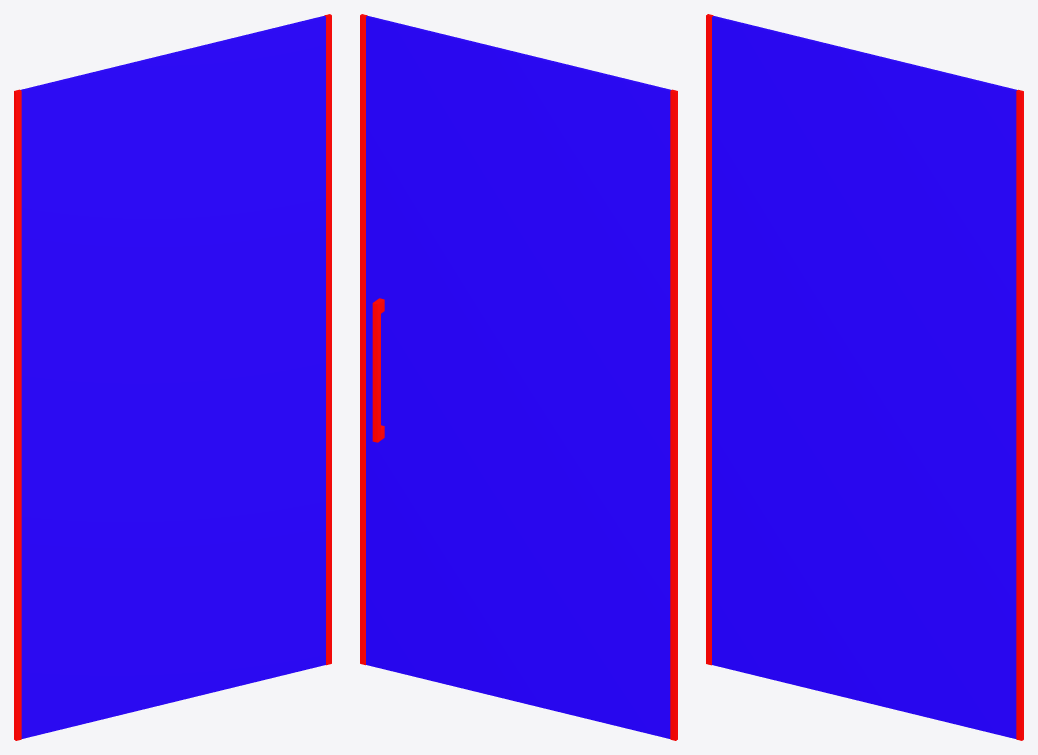
File: DoorFront.fbx
The picture shows the model from 3 angles, left to right: view 1: azimuth 30°, elevation 25°; view 2: azimuth 150°, elevation 25°; view 3: azimuth 330°, elevation 25°; orthographic projection.
Visible parts, largest first — view 1: TürVorneUnity; view 2: TürVorneUnity; view 3: TürVorneUnity.
Boxes of the visible parts, <box> form: TürVorneUnity: <box>14,14,331,740</box>; TürVorneUnity: <box>360,14,677,740</box>; TürVorneUnity: <box>706,14,1023,740</box>.
Bounding box in the file's own units: 107 × 209 × 5.05.
